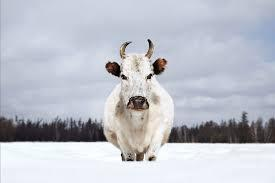cow: (103, 38, 174, 161)
